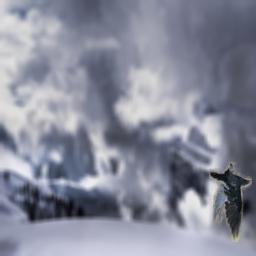Crow: (209, 162, 252, 242)
